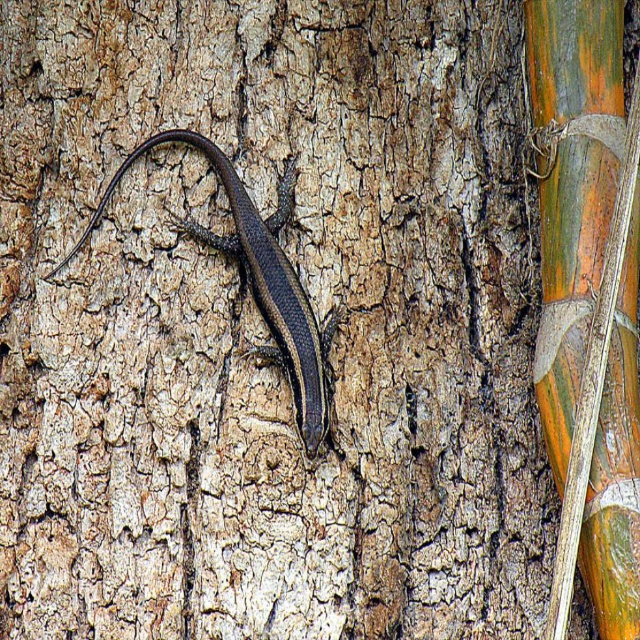Lizard: (43, 123, 341, 461)
